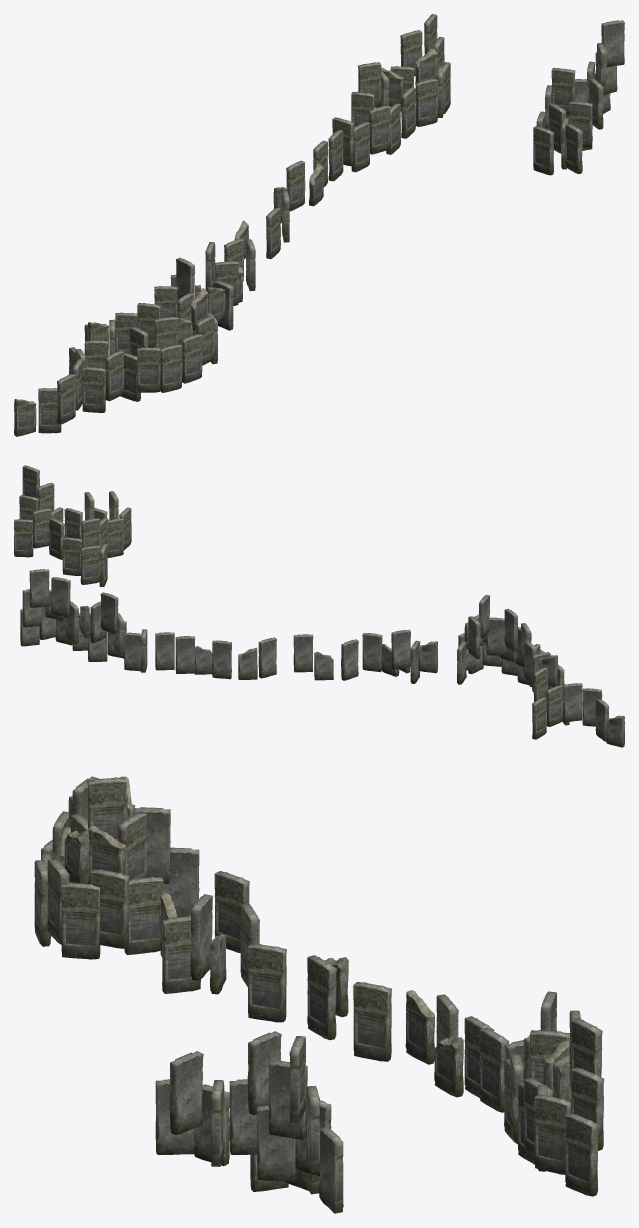
The model's file is tomb01.fbx.
3 renders of one model, top to bottom at view 1: azimuth 30°, elevation 25°; view 2: azimuth 150°, elevation 25°; view 3: azimuth 270°, elevation 25°, orthographic. The views are drawn at different scales.
Parts seen in each view (by area): view 1: m001300_0, m001300_1; view 2: m001300_0; view 3: m001300_0, m001300_1.
Part boxes in pixels (x1,y1,x2,y2): m001300_0: [14, 14, 624, 436]; m001300_1: [15, 48, 436, 403]; m001300_0: [14, 465, 624, 747]; m001300_0: [34, 776, 604, 1213]; m001300_1: [60, 776, 569, 1072].
Bounding box in the file's own units: 209571 × 64694 × 93161.
2 materials, 2 textured.
